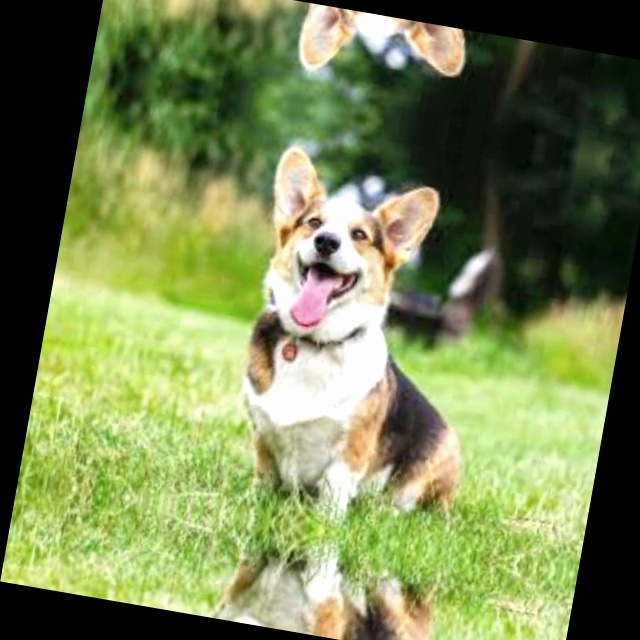dog: (205, 126, 524, 533), (277, 0, 545, 122), (183, 531, 451, 640)
